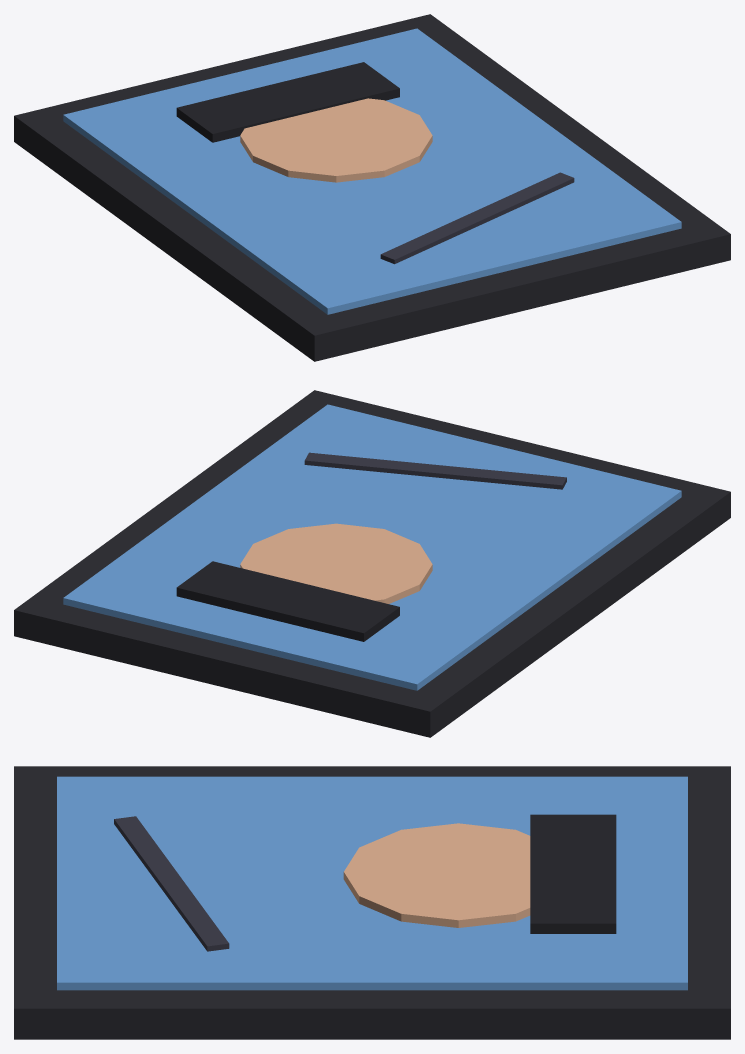
File: signed_photo.glb
The picture shows the model from 3 angles, top to bottom: view 1: azimuth 30°, elevation 25°; view 2: azimuth 150°, elevation 25°; view 3: azimuth 270°, elevation 25°; orthographic projection. The views are drawn at different scales.
Parts seen in each view (by area): view 1: photo_photo_sky, frame_photo_frame, face_photo_face, hair_photo_hair, scribble_pawn_story_ink; view 2: photo_photo_sky, frame_photo_frame, face_photo_face, hair_photo_hair, scribble_pawn_story_ink; view 3: photo_photo_sky, frame_photo_frame, face_photo_face, hair_photo_hair, scribble_pawn_story_ink.
Part boxes in pixels (x1=…): photo_photo_sky: x1=63, y1=28, x2=681, y2=314; frame_photo_frame: x1=14, y1=14, x2=730, y2=361; face_photo_face: x1=240, y1=98, x2=432, y2=182; hair_photo_hair: x1=176, y1=62, x2=399, y2=142; scribble_pawn_story_ink: x1=380, y1=172, x2=574, y2=264; photo_photo_sky: x1=63, y1=404, x2=681, y2=690; frame_photo_frame: x1=14, y1=390, x2=730, y2=737; face_photo_face: x1=240, y1=523, x2=432, y2=603; hair_photo_hair: x1=176, y1=561, x2=399, y2=641; scribble_pawn_story_ink: x1=304, y1=452, x2=566, y2=489; photo_photo_sky: x1=57, y1=776, x2=687, y2=990; frame_photo_frame: x1=14, y1=766, x2=730, y2=1039; face_photo_face: x1=343, y1=823, x2=530, y2=927; hair_photo_hair: x1=530, y1=814, x2=616, y2=933; scribble_pawn_story_ink: x1=114, y1=816, x2=229, y2=951.
Size of the model in its own units: 0.2 by 0.019 by 0.25.
